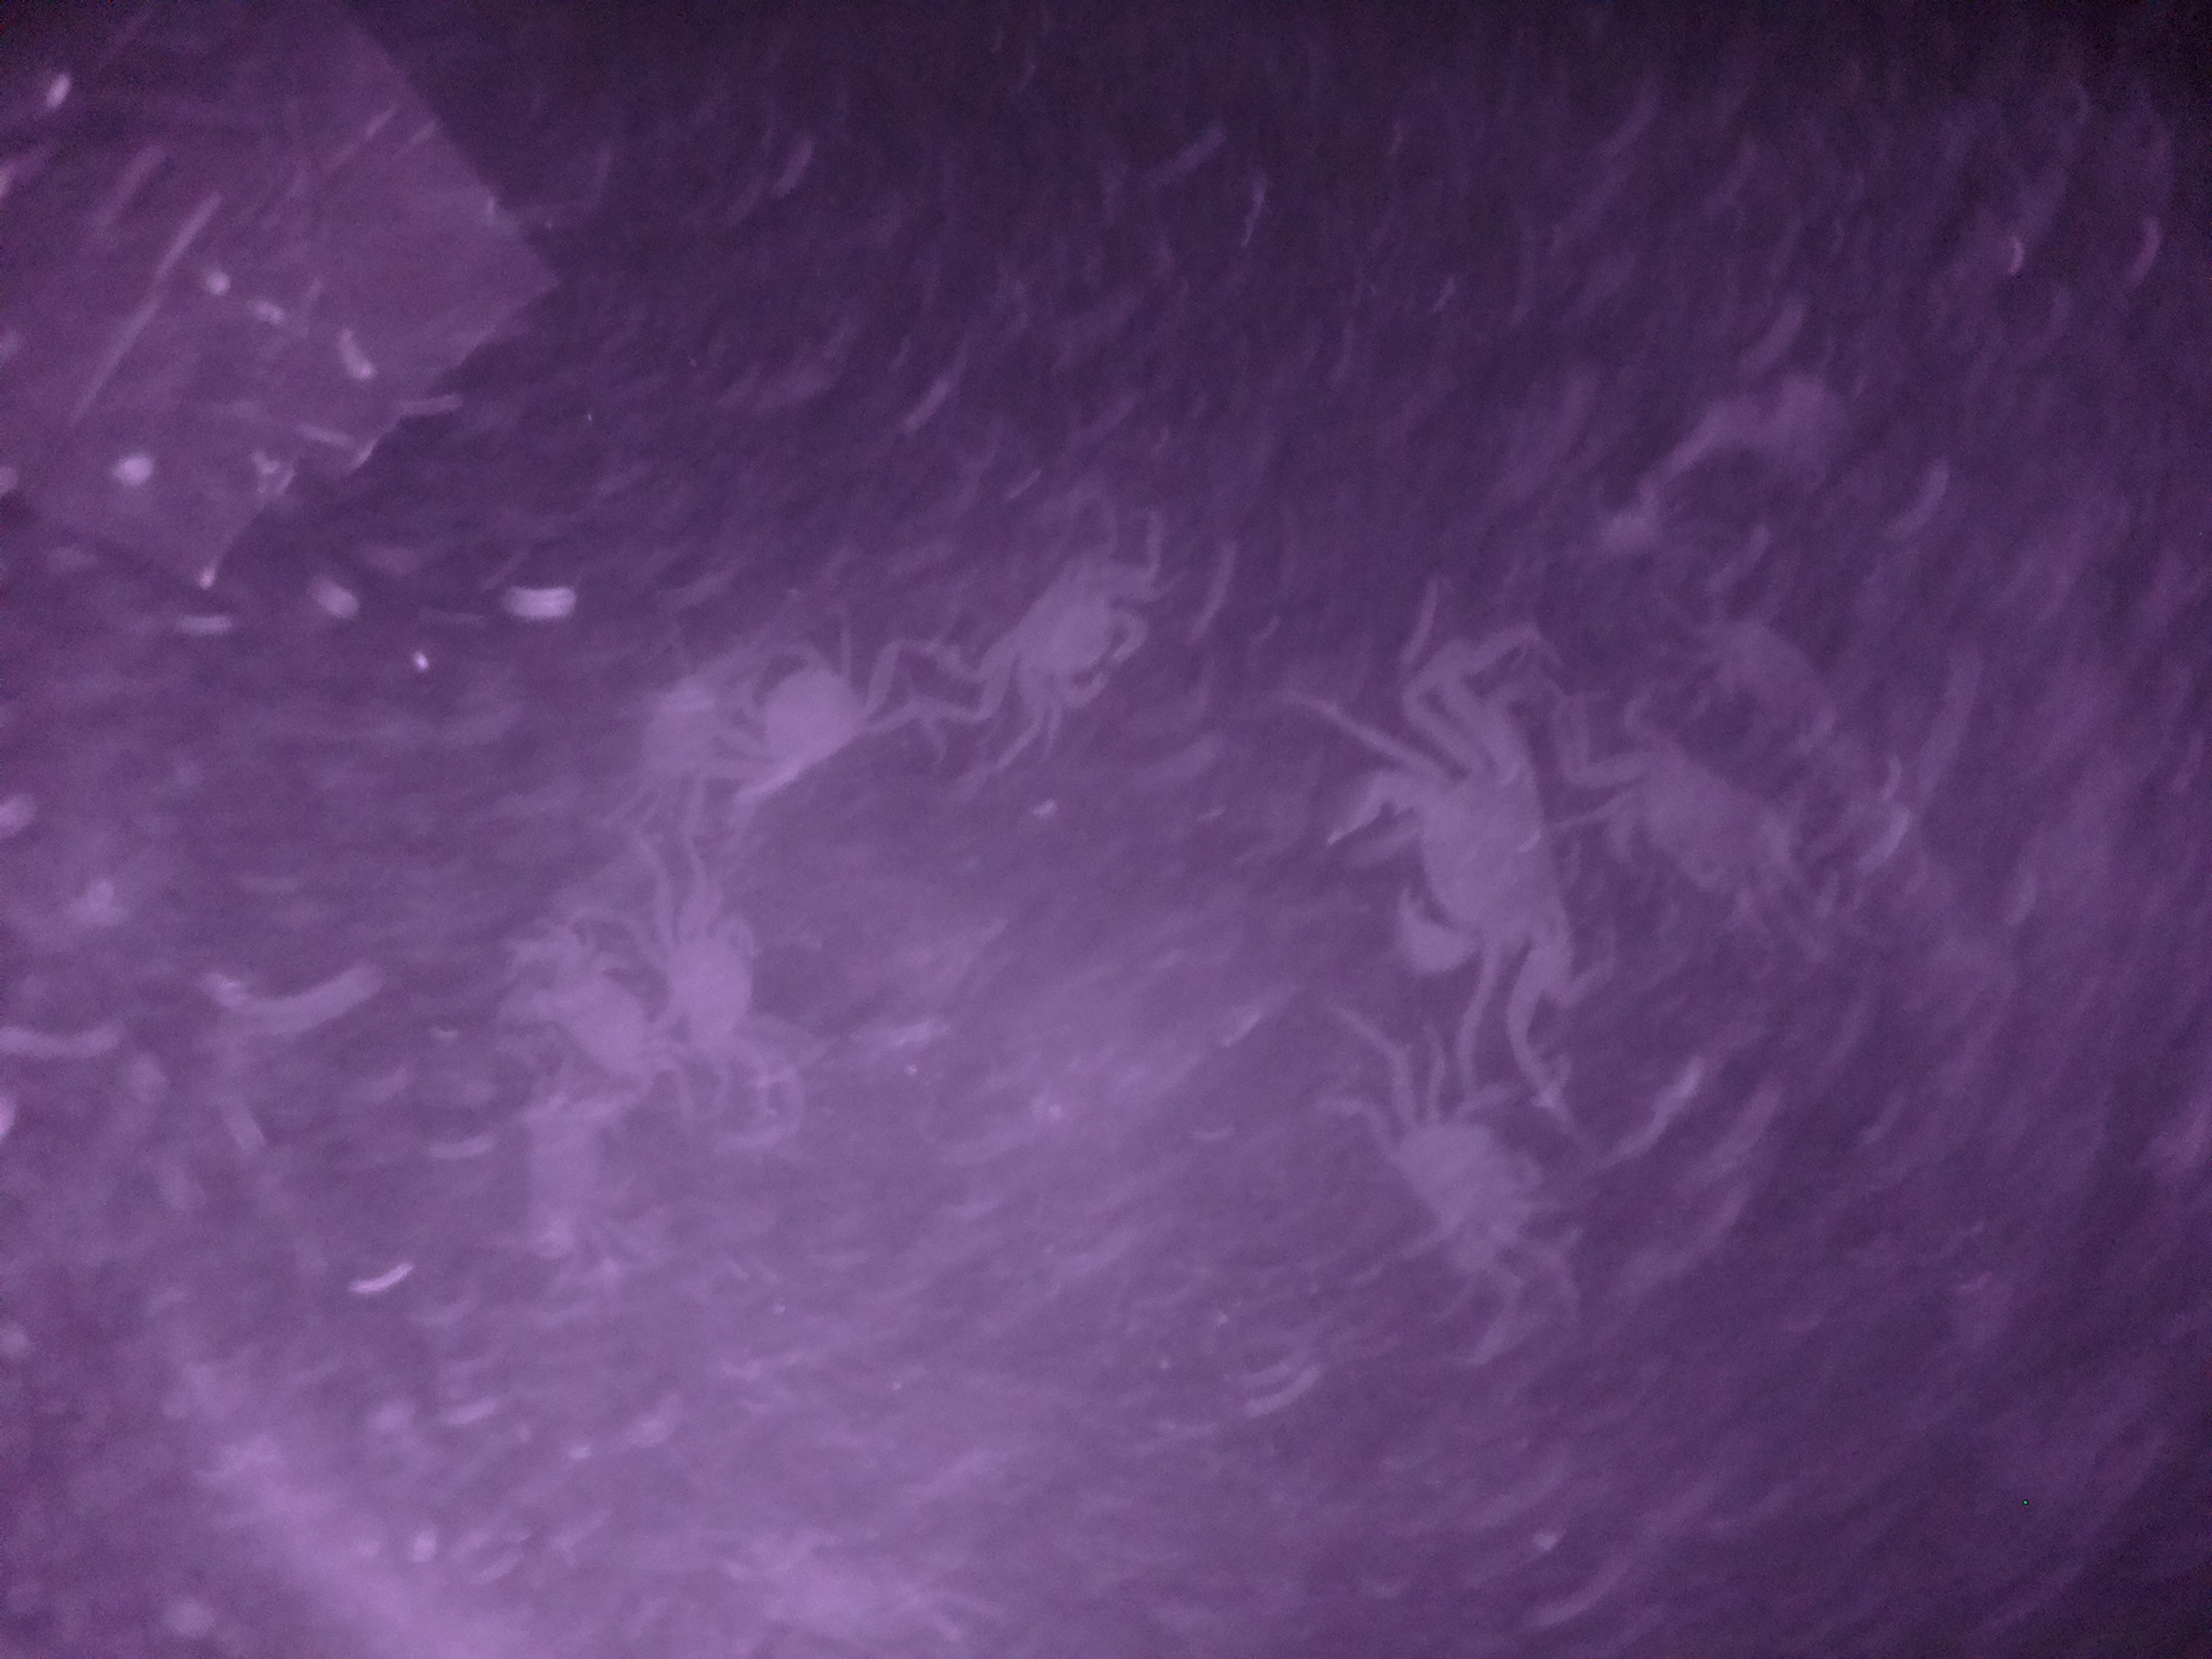Crab: (1324, 718, 1594, 986), (691, 612, 902, 828), (965, 530, 1177, 741), (1362, 1056, 1552, 1279)
